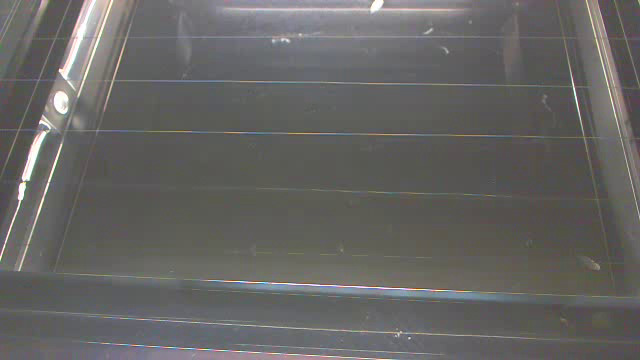alpha: (572, 252, 603, 271), (368, 1, 387, 16)
